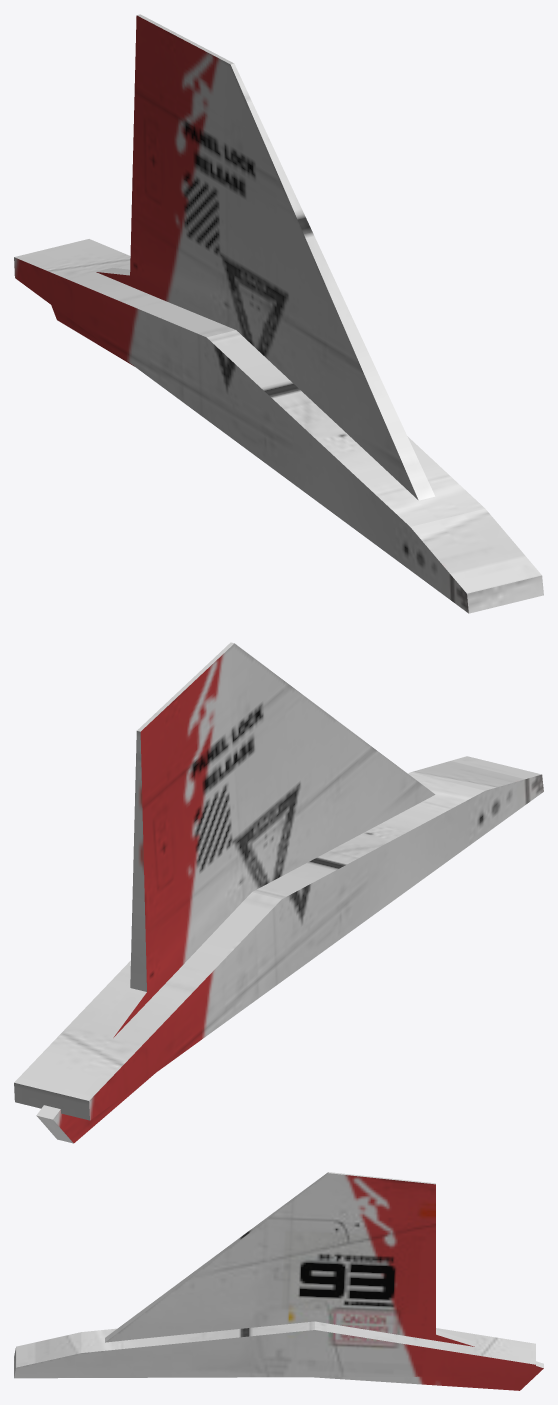
The model's file is tailwing01-1.FBX.
The picture shows the model from 3 angles, top to bottom: view 1: azimuth 30°, elevation 25°; view 2: azimuth 150°, elevation 25°; view 3: azimuth 270°, elevation 25°; orthographic projection. The views are drawn at different scales.
Parts seen in each view (by area): view 1: tailwing01-1; view 2: tailwing01-1; view 3: tailwing01-1.
Boxes of the visible parts, x1,y1,x2,y2 form: tailwing01-1: [14, 14, 543, 613]; tailwing01-1: [14, 642, 543, 1143]; tailwing01-1: [14, 1172, 543, 1390].
Size of the model in its own units: 52.47 by 251 by 559.
